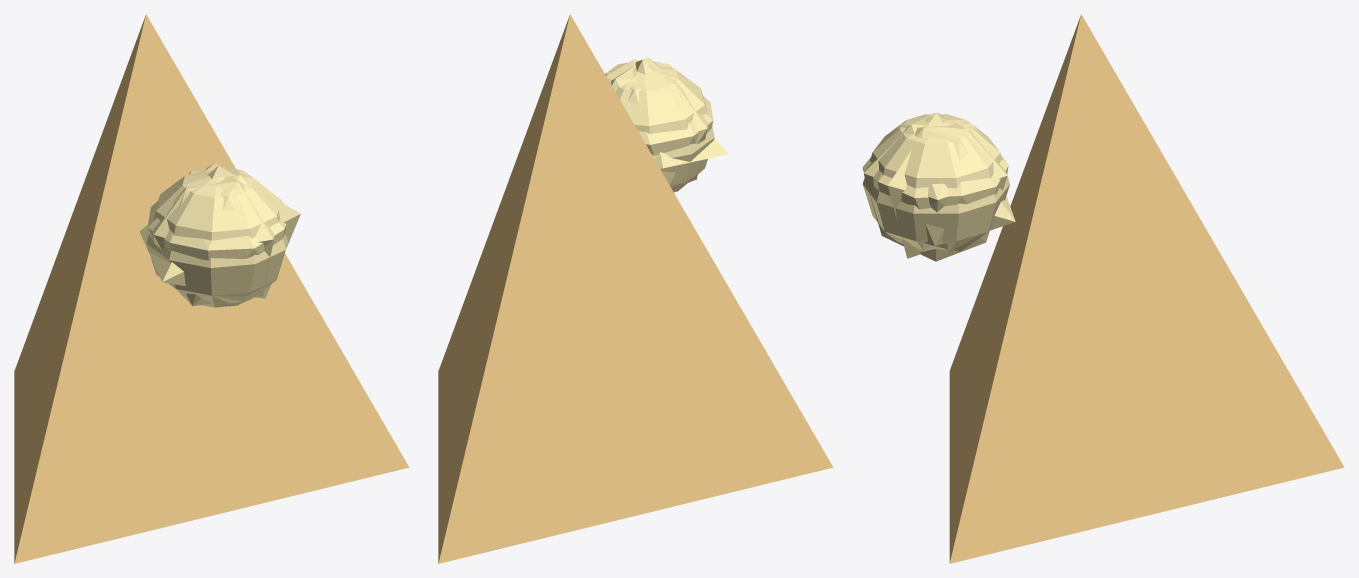
The model's file is SM_Charger.fbx.
The picture shows the model from 3 angles, left to right: view 1: azimuth 30°, elevation 25°; view 2: azimuth 150°, elevation 25°; view 3: azimuth 270°, elevation 25°; orthographic projection.
Visible parts, largest first — view 1: LOD1_SM_Charger, SM_Charger, LOD2_SM_Charger, LOD3_SM_Charger; view 2: LOD1_SM_Charger, SM_Charger, LOD2_SM_Charger, LOD3_SM_Charger; view 3: LOD1_SM_Charger, SM_Charger, LOD2_SM_Charger, LOD3_SM_Charger.
Part boxes in pixels (left/top/right/bottom): LOD1_SM_Charger: left=14, top=14, right=409, bottom=563; SM_Charger: left=146, top=166, right=287, bottom=307; LOD2_SM_Charger: left=153, top=162, right=284, bottom=306; LOD3_SM_Charger: left=139, top=166, right=300, bottom=298; LOD1_SM_Charger: left=438, top=14, right=833, bottom=563; SM_Charger: left=605, top=62, right=714, bottom=192; LOD2_SM_Charger: left=611, top=57, right=707, bottom=188; LOD3_SM_Charger: left=635, top=60, right=728, bottom=168; LOD1_SM_Charger: left=862, top=14, right=1344, bottom=563; SM_Charger: left=862, top=114, right=1009, bottom=252; LOD2_SM_Charger: left=863, top=112, right=1007, bottom=261; LOD3_SM_Charger: left=887, top=113, right=1015, bottom=258.
Size of the model in its own units: 0.3118 by 0.342 by 0.3296.
